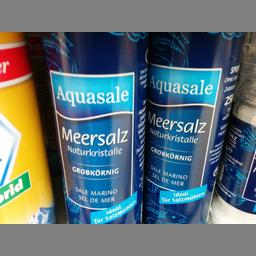spices: (142, 32, 244, 223), (40, 31, 142, 222)
